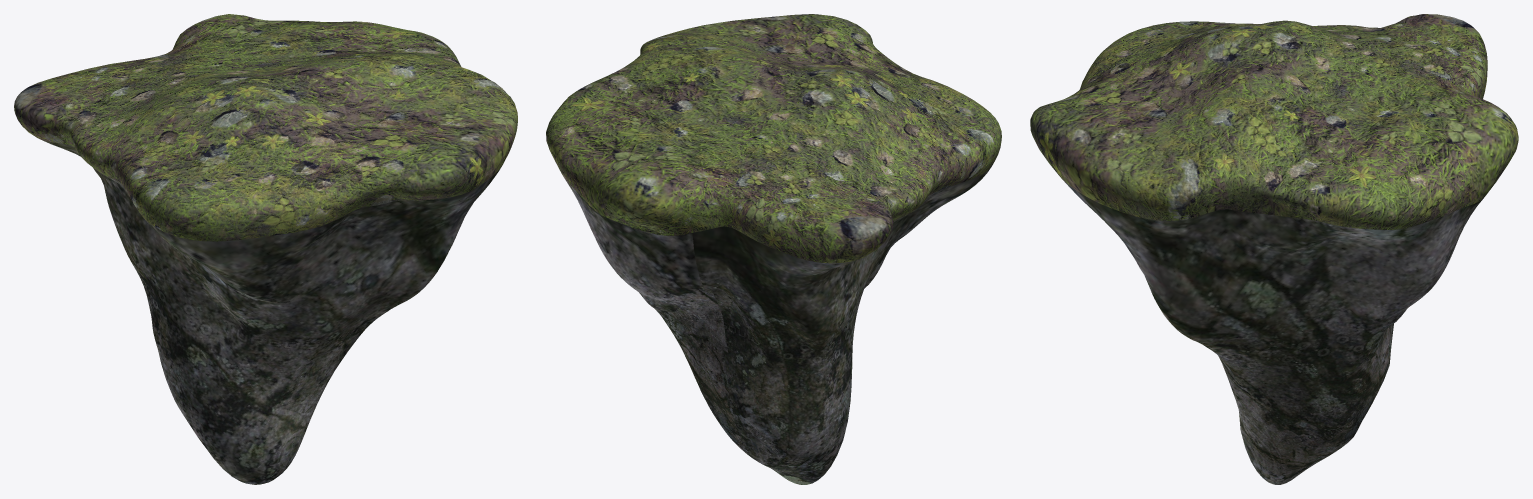
The model's file is Floating_Island.fbx.
3 renders of one model, left to right at view 1: azimuth 30°, elevation 25°; view 2: azimuth 150°, elevation 25°; view 3: azimuth 270°, elevation 25°, orthographic. The views are drawn at different scales.
Visible parts, largest first — view 1: Floating_Island; view 2: Floating_Island; view 3: Floating_Island.
Boxes of the visible parts, x1=… form: Floating_Island: x1=14, y1=14, x2=517, y2=484; Floating_Island: x1=546, y1=14, x2=1001, y2=484; Floating_Island: x1=1030, y1=14, x2=1518, y2=484.
Bounding box in the file's own units: 42.48 × 44.12 × 44.74.
Materials: 2 (2 with a texture image).
